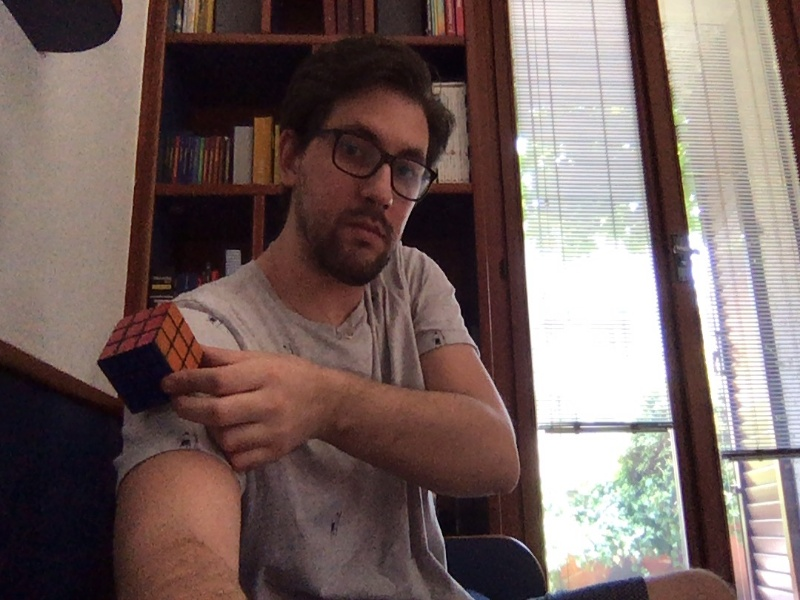rubik: (96, 301, 204, 415)
